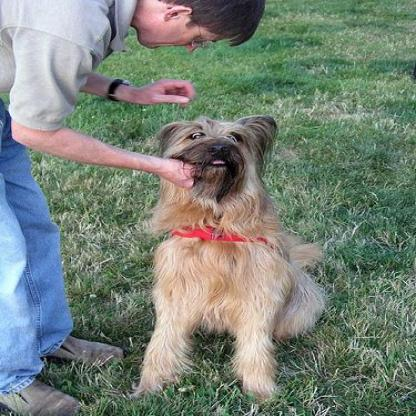briard: (127, 110, 334, 398)
